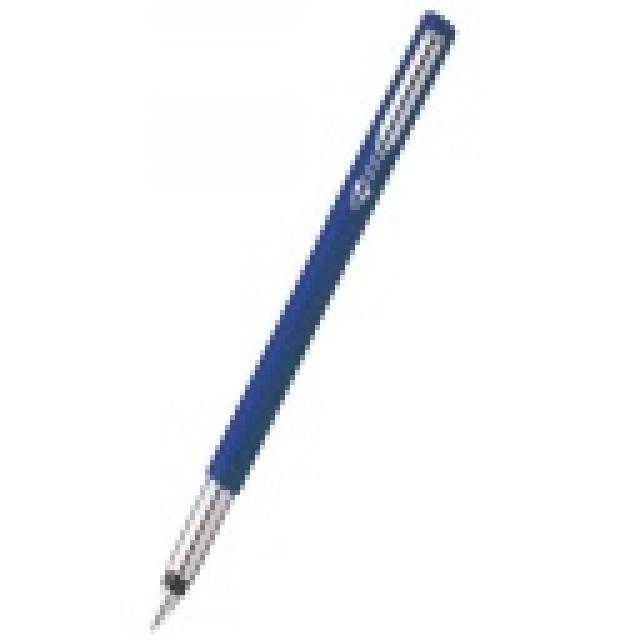pen: (141, 3, 464, 635)
